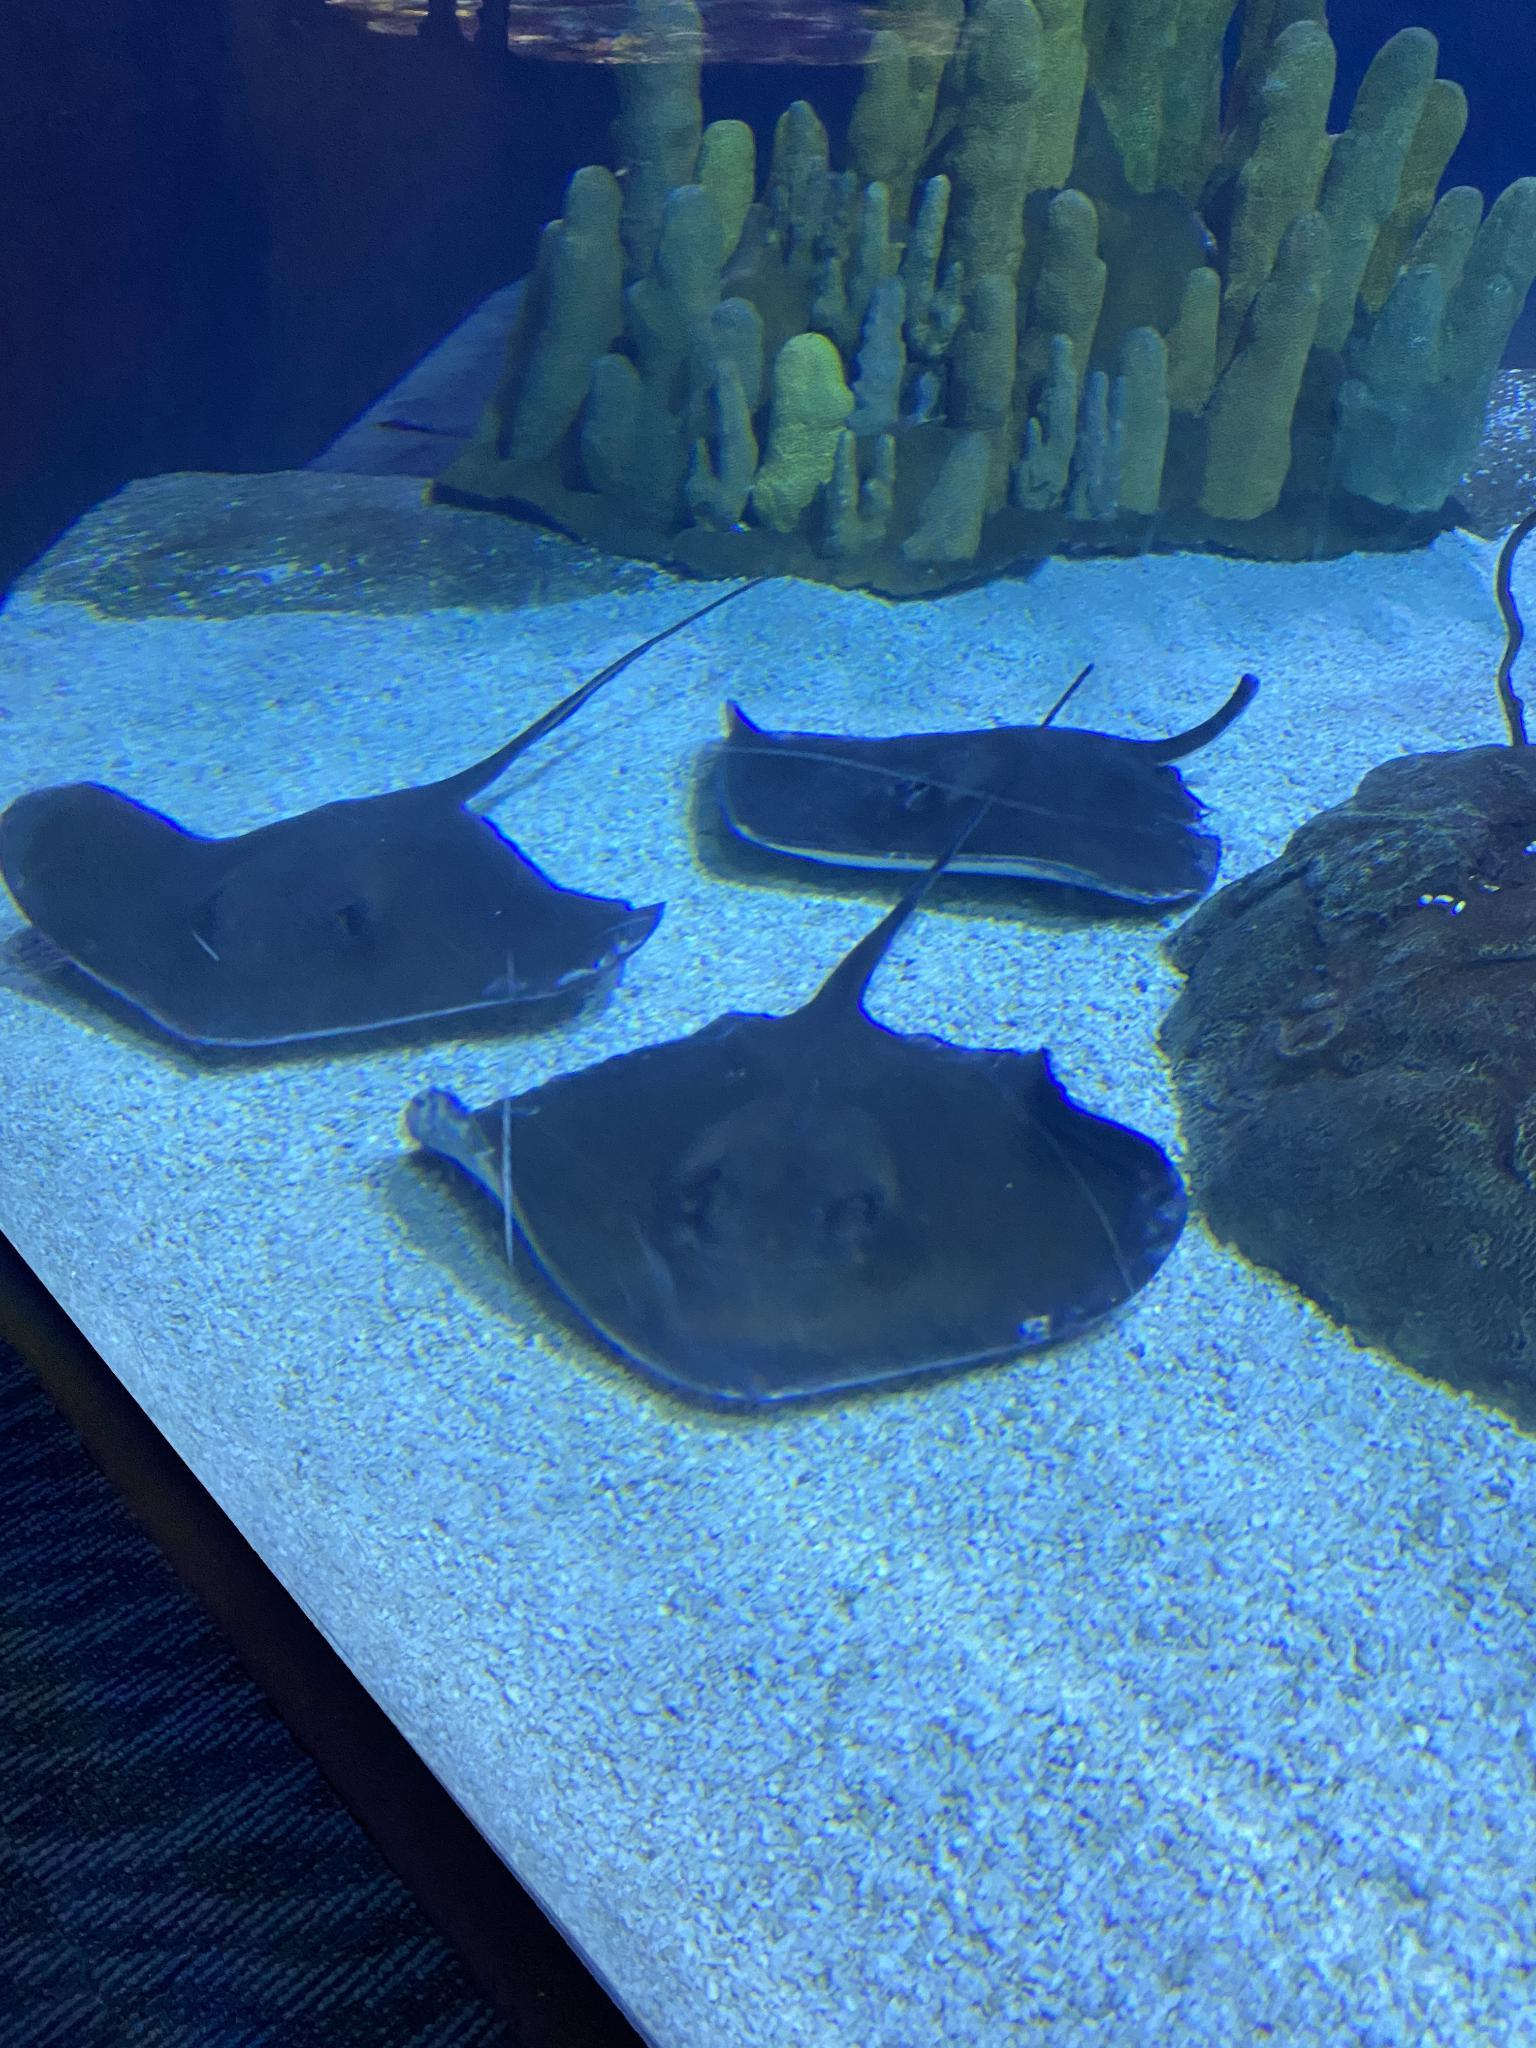stingray: (405, 1005, 1191, 1405), (0, 780, 663, 1055), (720, 705, 1221, 910)
